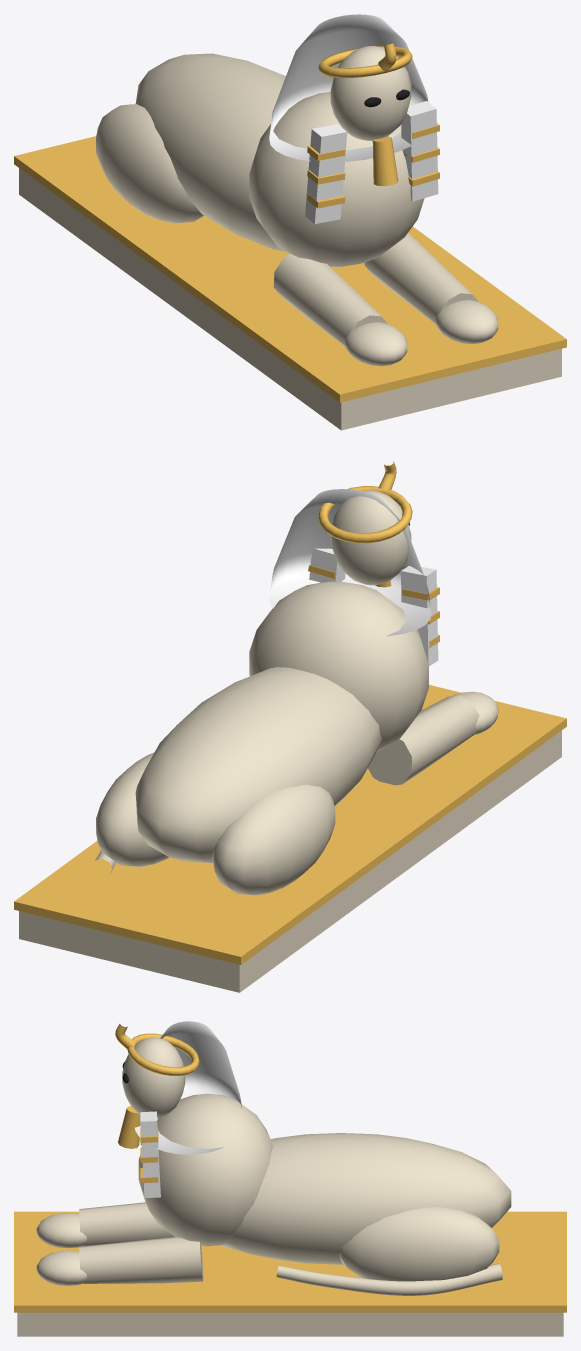
The model's file is guardian-androsphinx.glb.
3 views of the same model, one above another, from view 1: azimuth 30°, elevation 25°; view 2: azimuth 150°, elevation 25°; view 3: azimuth 270°, elevation 25° (orthographic). The views are drawn at different scales.
Parts seen in each view (by area): view 1: figurka; view 2: figurka; view 3: figurka.
Boxes of the visible parts, box(x1,y1,x2,y2) form: figurka: box(14, 14, 566, 430); figurka: box(14, 461, 566, 992); figurka: box(14, 1021, 566, 1336).
Size of the model in its own units: 0.35 by 0.4644 by 0.87.
